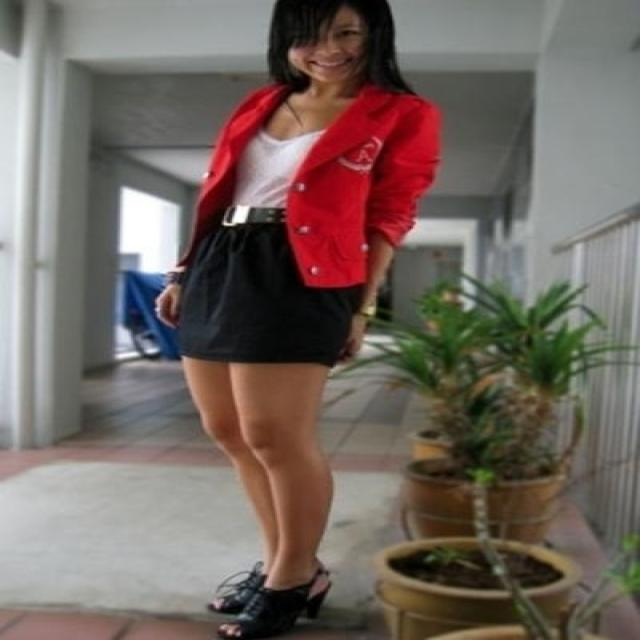jacket: (194, 86, 440, 287)
shirt: (222, 131, 324, 225)
shoe: (211, 570, 296, 639)
skirt: (173, 222, 352, 366)
